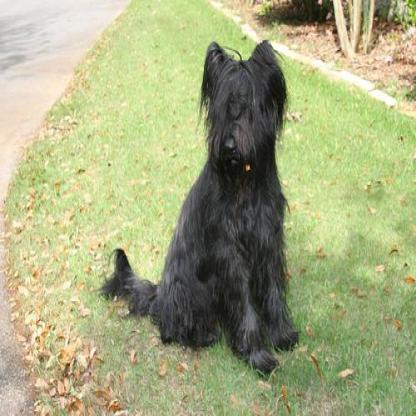briard: (99, 36, 300, 381)
